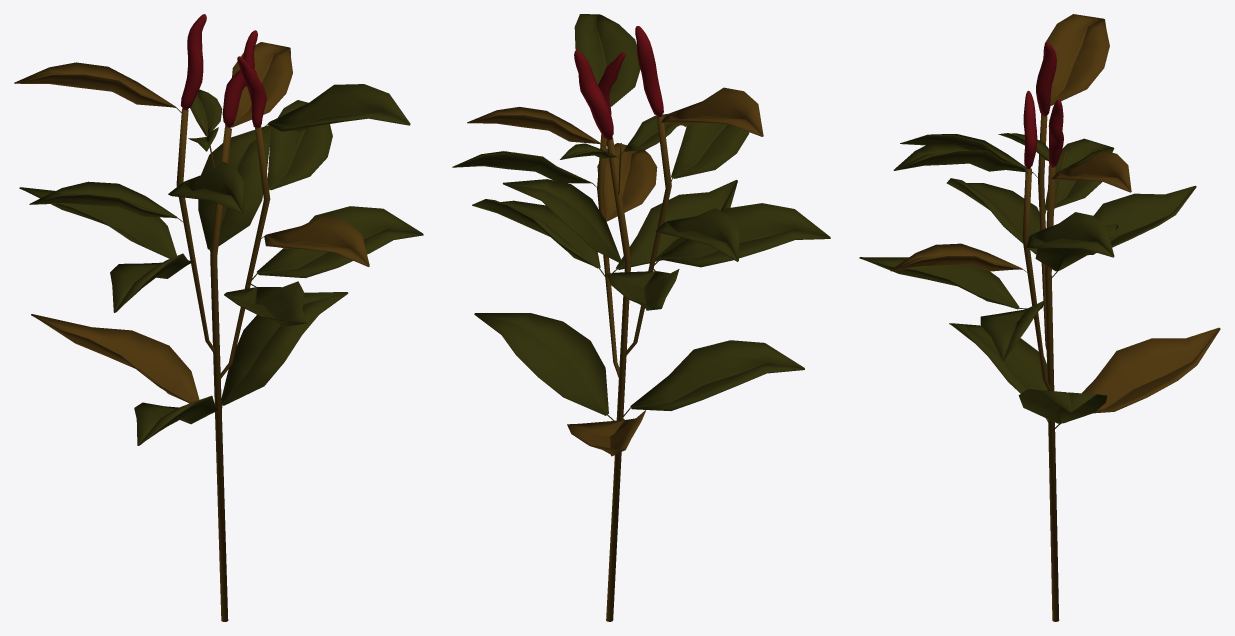
The model's file is PimentaPodre.fbx.
3 renders of one model, left to right at view 1: azimuth 30°, elevation 25°; view 2: azimuth 150°, elevation 25°; view 3: azimuth 270°, elevation 25°, orthographic. The views are drawn at different scales.
Parts seen in each view (by area): view 1: PimentaPodre; view 2: PimentaPodre; view 3: PimentaPodre.
Boxes of the visible parts, <box> form: PimentaPodre: <box>14,14,423,621</box>; PimentaPodre: <box>452,14,830,621</box>; PimentaPodre: <box>859,14,1220,621</box>.
Size of the model in its own units: 16.19 by 26.88 by 15.52.
